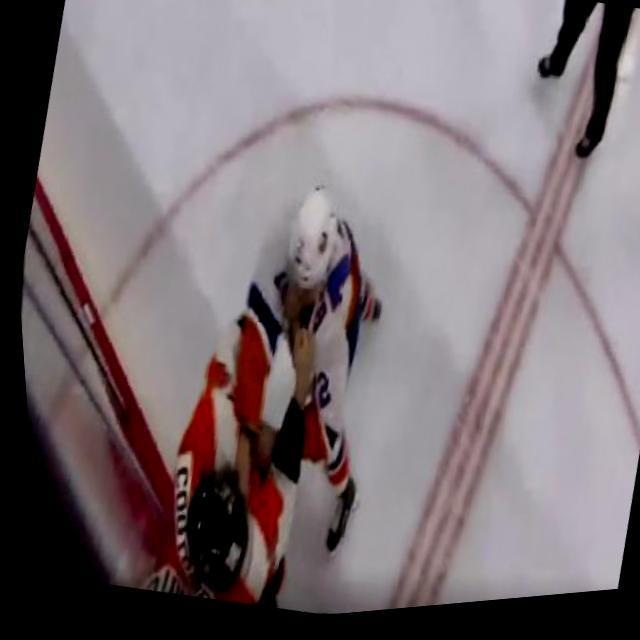fight: (91, 143, 450, 634)
